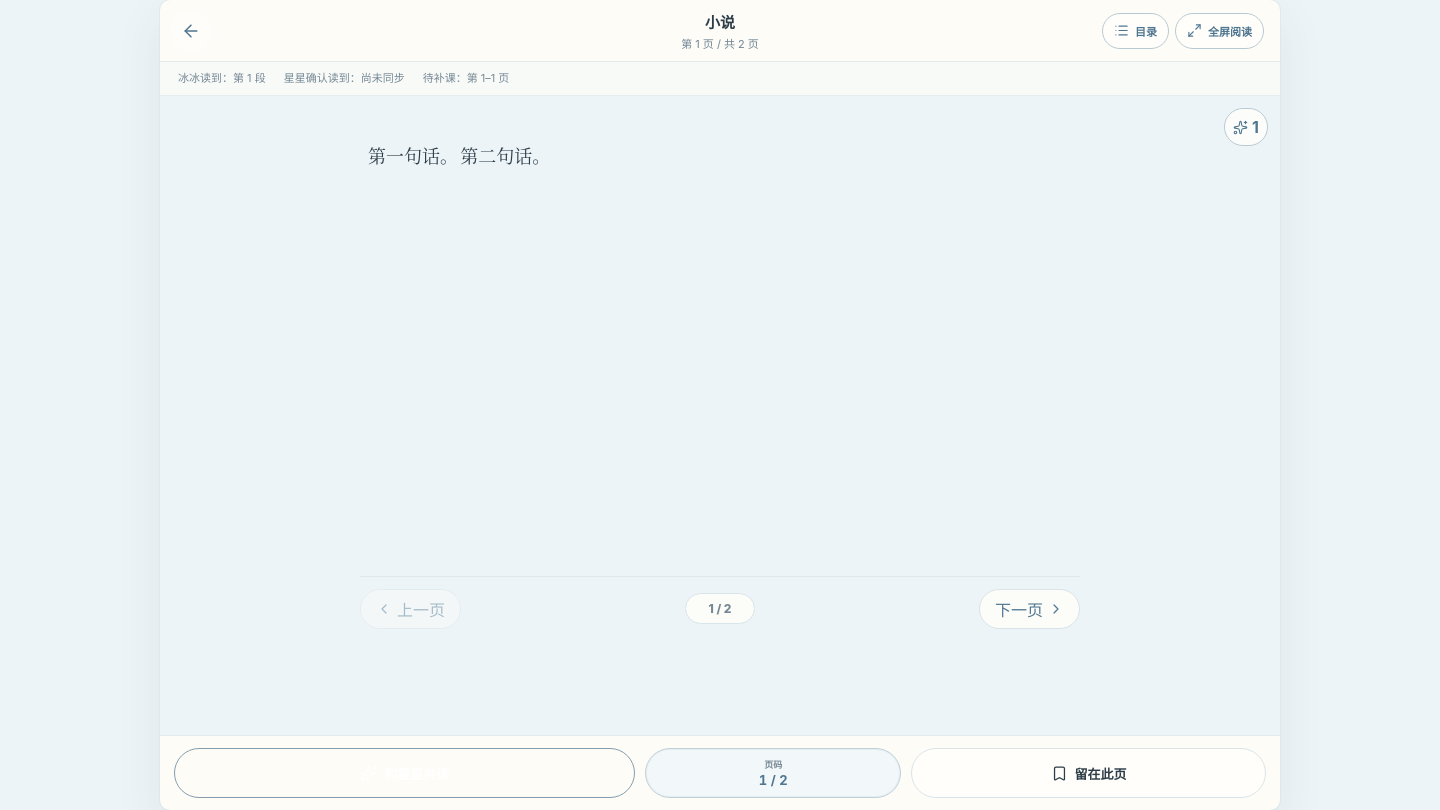
Test: NovelReader › shows saved highlights and lets the thought be edited
The image size is (1440, 810).
Check: the button "第二句话。" is shown, box 458,142 -> 552,169
Check: the dialog "本页想法" is not shown
What coordinates should you click on to do the following:
click the button named "本页想法"
I would click on:
 (1246, 127)
Its box is 1224,108 -> 1268,146.
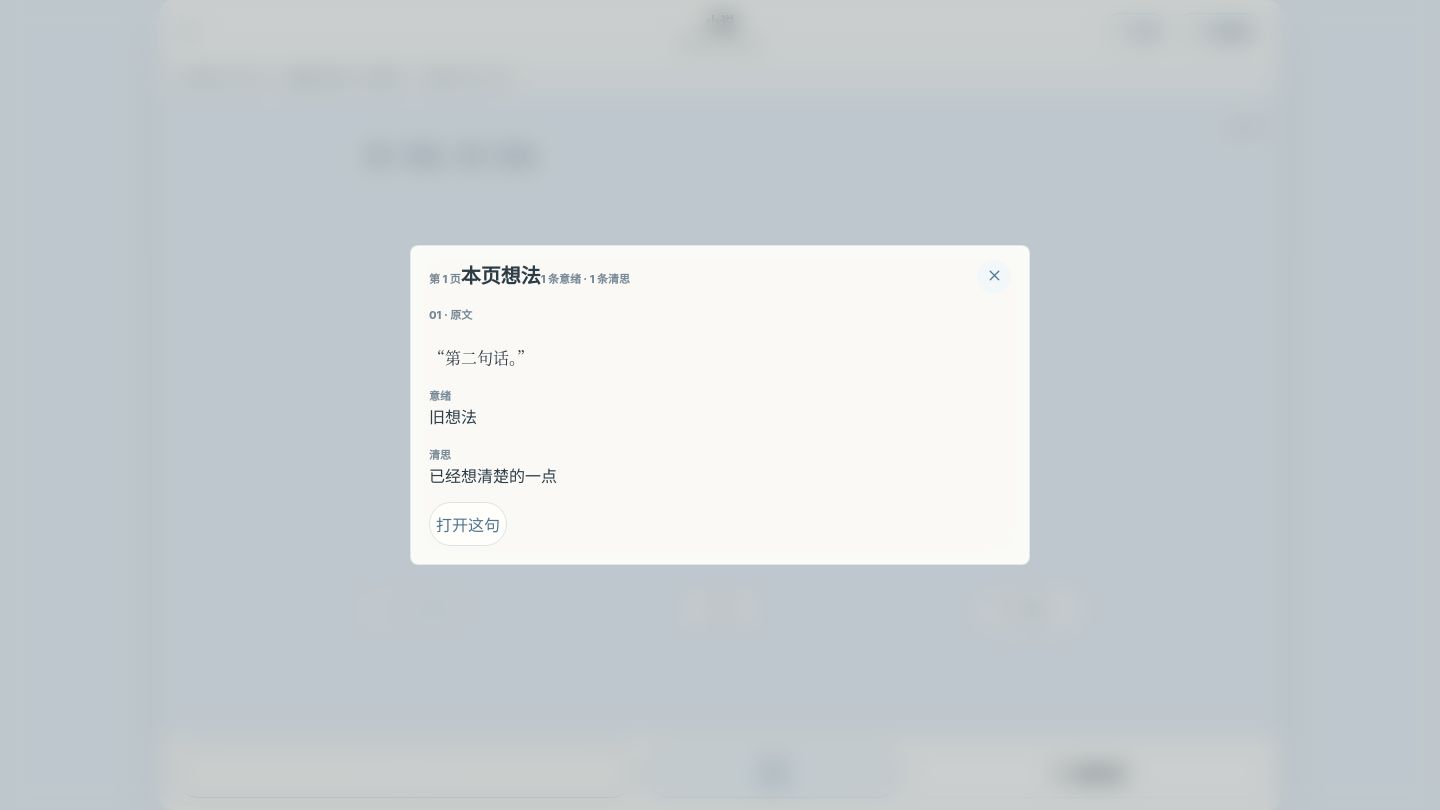
Check: the dialog "本页想法" is shown, box 410,245 -> 1030,565
Check: the text "已经想清楚的一点" is shown, box 429,466 -> 557,486
What coordinates should you click on to do the following:
click the button "打开这句"
I would click on:
 (468, 524)
Its box is 429,502 -> 507,546.
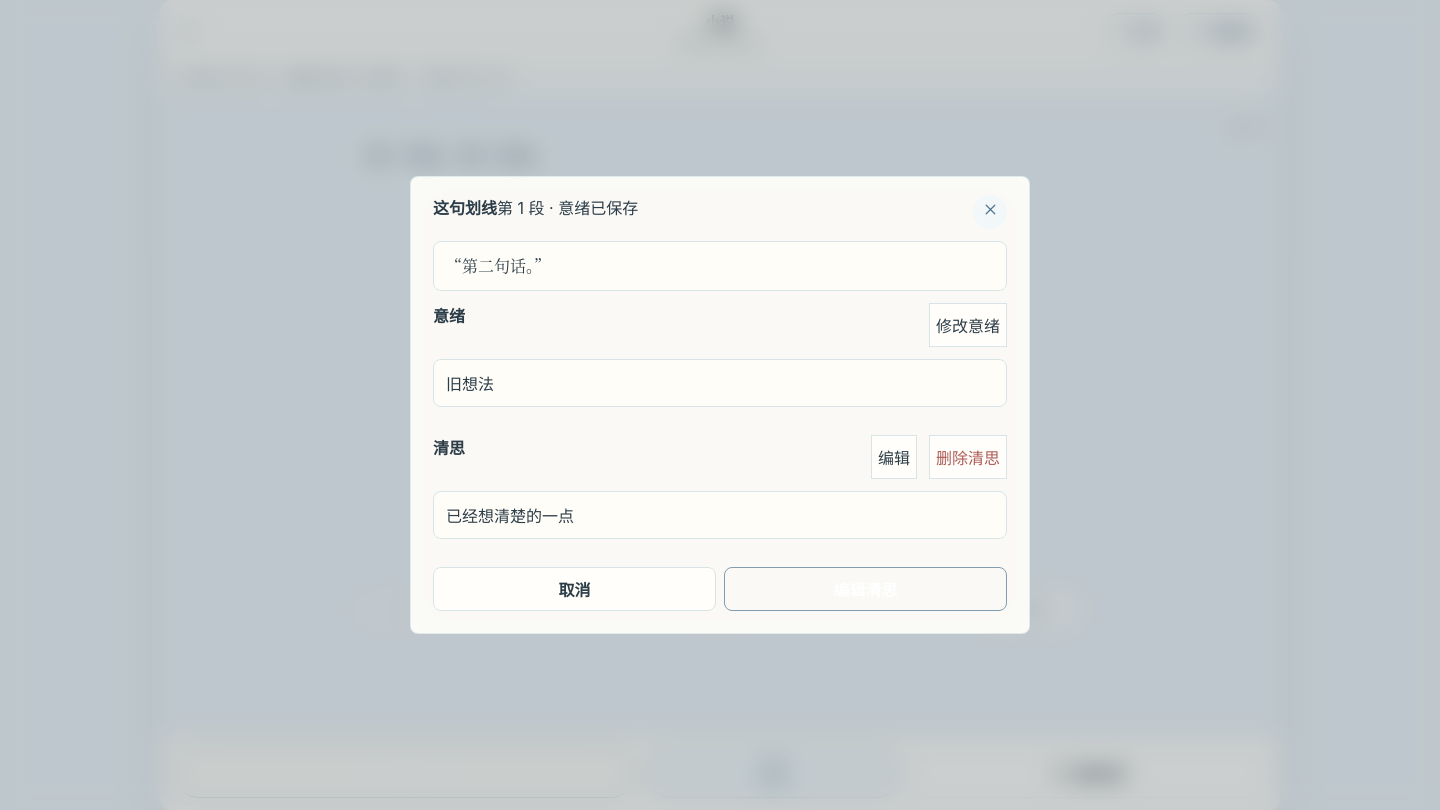
Check: the dialog named "划线清思" is shown, box 410,176 -> 1030,634
What coordinates should you click on to do the following:
click the button "编辑清思"
I would click on:
 (866, 589)
Its box is 724,567 -> 1007,611.
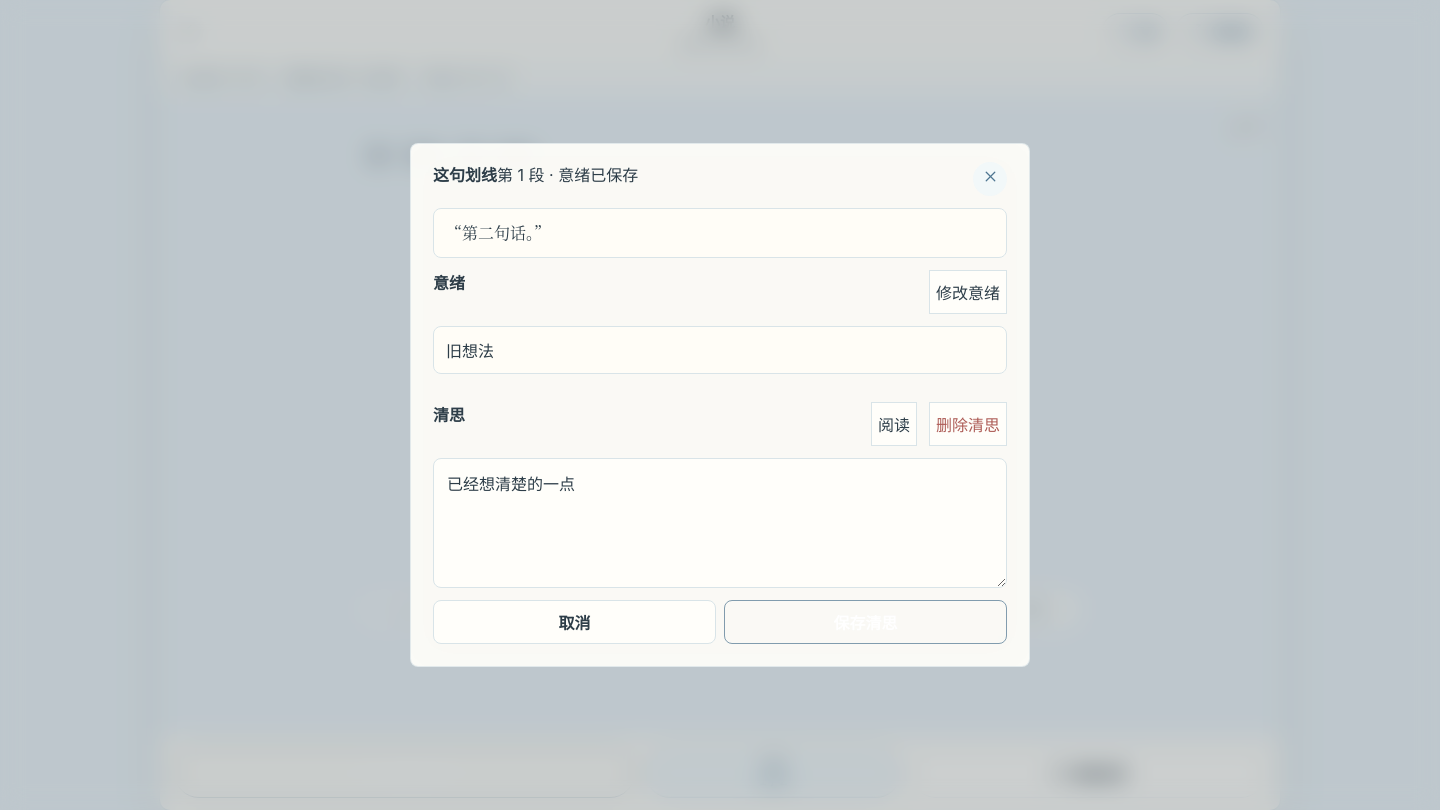
Check: the text box with placeholder "粘贴星星说得好的地方，或写下聊完之后真正想清楚的内容…" holds "已经想清楚的一点", box 433,458 -> 1007,588
What coordinates should you click on to do the following:
click the button "修改意绪"
I would click on:
 (968, 292)
Its box is 929,270 -> 1007,314.
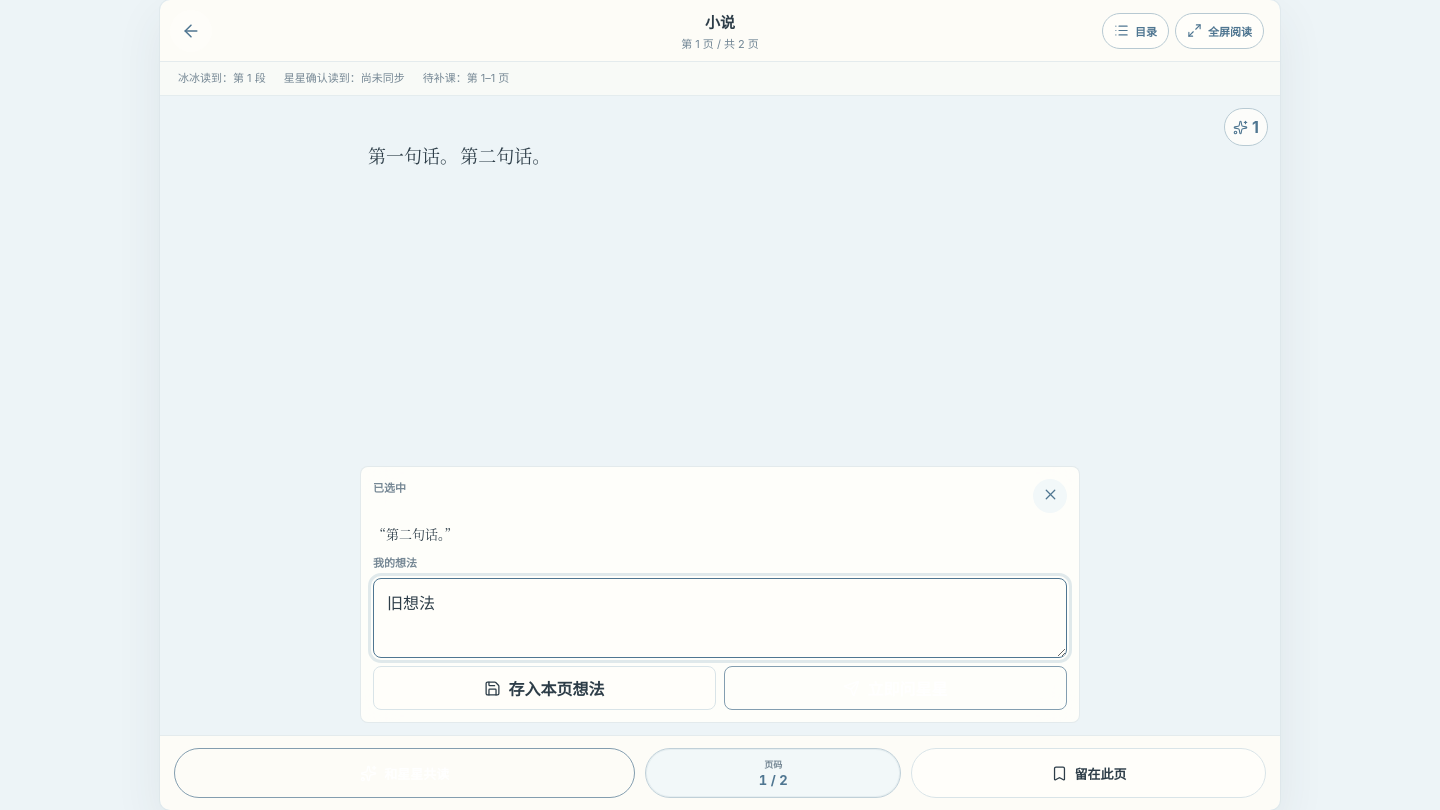
Check: the text box named "我的划线想法" holds "旧想法", box 373,578 -> 1067,658
